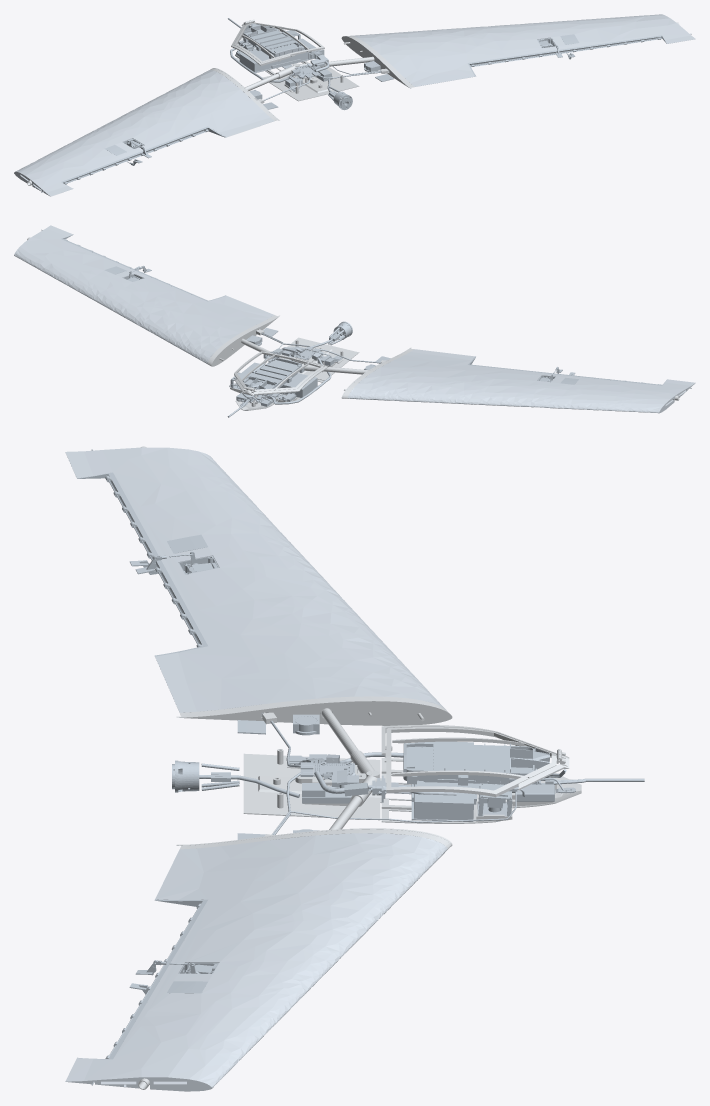
File: bluebird_inside.glb
3 renders of one model, top to bottom at view 1: azimuth 30°, elevation 25°; view 2: azimuth 150°, elevation 25°; view 3: azimuth 270°, elevation 25°, orthographic. The views are drawn at different scales.
Parts seen in each view (by area): view 1: x_foam__foam_core_L, x_foam__foam_core_R, x_structure__keel_rear, x_compute__phone_insert, x_structure__root_rib_R, x_structure__hatch_frame, x_power__battery_pack, x_structure__root_rib_L, x_controls__hinge_strip_3_R, x_structure__coaming, x_controls__hinge_strip_2_R, x_controls__hinge_strip_3_L (+1 smaller); view 2: x_foam__foam_core_L, x_foam__foam_core_R, x_compute__phone_insert, x_structure__keel_rear, x_structure__root_rib_R, x_structure__hatch_frame, x_power__battery_pack, x_structure__coaming, x_structure__root_rib_L, x_structure__keel_fwd; view 3: x_foam__foam_core_R, x_foam__foam_core_L, x_structure__root_rib_L, x_structure__keel_rear, x_compute__phone_insert, x_structure__hatch_frame, x_power__battery_pack, x_structure__keel_fwd, x_structure__root_rib_R, x_structure__coaming.
Part boxes in pixels (<box>): x_foam__foam_core_L: <box>14,70,274,196</box>; x_foam__foam_core_R: <box>351,14,695,86</box>; x_structure__keel_rear: <box>269,67,359,101</box>; x_compute__phone_insert: <box>242,23,304,58</box>; x_structure__root_rib_R: <box>341,35,414,88</box>; x_structure__hatch_frame: <box>234,20,324,62</box>; x_power__battery_pack: <box>239,38,315,72</box>; x_structure__root_rib_L: <box>210,68,279,120</box>; x_controls__hinge_strip_3_R: <box>467,54,531,76</box>; x_structure__coaming: <box>231,19,290,65</box>; x_controls__hinge_strip_2_R: <box>531,44,599,58</box>; x_controls__hinge_strip_3_L: <box>160,126,226,148</box>; x_foam__foam_core_L: <box>347,349,695,413</box>; x_foam__foam_core_R: <box>14,225,273,363</box>; x_compute__phone_insert: <box>243,357,304,394</box>; x_structure__keel_rear: <box>280,337,359,380</box>; x_structure__root_rib_R: <box>207,315,279,366</box>; x_structure__hatch_frame: <box>234,351,324,391</box>; x_power__battery_pack: <box>242,362,317,397</box>; x_structure__coaming: <box>234,358,328,395</box>; x_structure__root_rib_L: <box>341,347,414,398</box>; x_structure__keel_fwd: <box>230,379,324,410</box>; x_foam__foam_core_R: <box>65,833,447,1091</box>; x_foam__foam_core_L: <box>65,447,445,716</box>; x_structure__root_rib_L: <box>176,696,452,725</box>; x_structure__keel_rear: <box>243,749,380,820</box>; x_compute__phone_insert: <box>403,742,549,786</box>; x_structure__hatch_frame: <box>384,727,561,797</box>; x_power__battery_pack: <box>414,741,473,819</box>; x_structure__keel_fwd: <box>380,758,581,823</box>; x_structure__root_rib_R: <box>176,828,452,849</box>; x_structure__coaming: <box>381,725,569,789</box>.
Bounding box in the file's own units: 1.8 × 0.057 × 0.6933.
